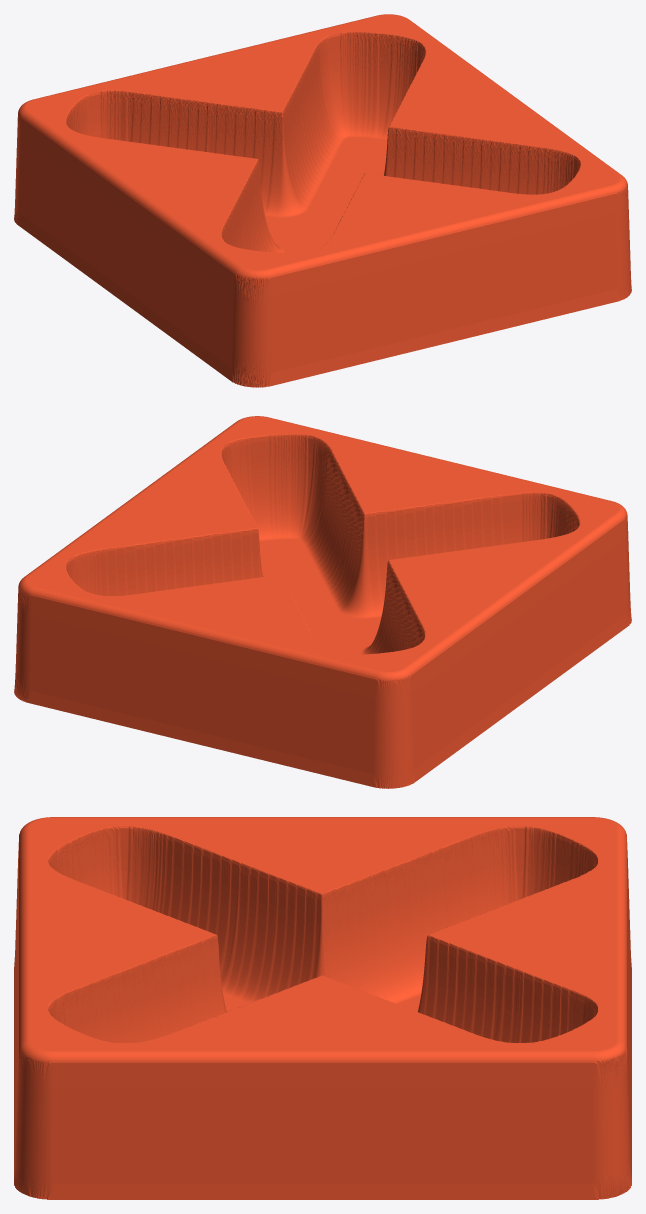
File: mold.glb
The picture shows the model from 3 angles, top to bottom: view 1: azimuth 30°, elevation 25°; view 2: azimuth 150°, elevation 25°; view 3: azimuth 270°, elevation 25°; orthographic projection. The views are drawn at different scales.
Parts seen in each view (by area): view 1: geometry_0; view 2: geometry_0; view 3: geometry_0.
Part boxes in pixels (bbox=[...]): geometry_0: bbox=[14, 14, 631, 387]; geometry_0: bbox=[14, 416, 631, 788]; geometry_0: bbox=[14, 817, 631, 1199].
Bounding box in the file's own units: 0.1351 × 0.0365 × 0.1435.
